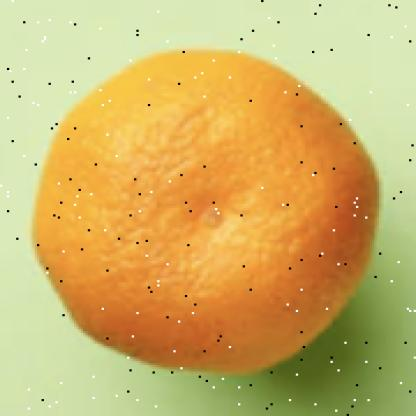fresh: (31, 51, 380, 378)
